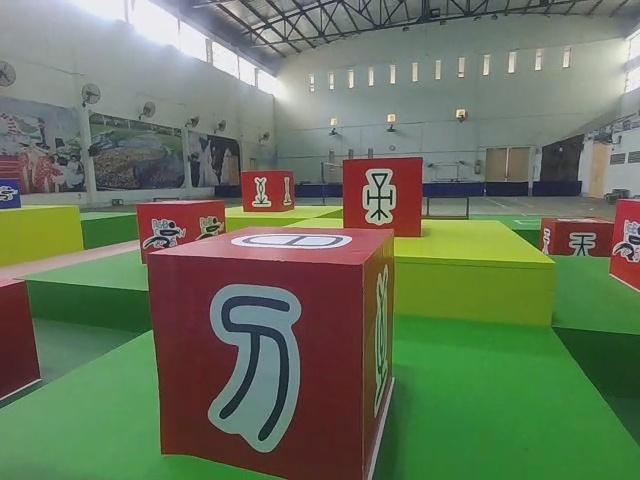R1: (136, 199, 228, 267), (608, 200, 640, 289)
R2 Fake: (144, 228, 394, 480)
R2 Real: (340, 154, 426, 234), (239, 168, 292, 212)
